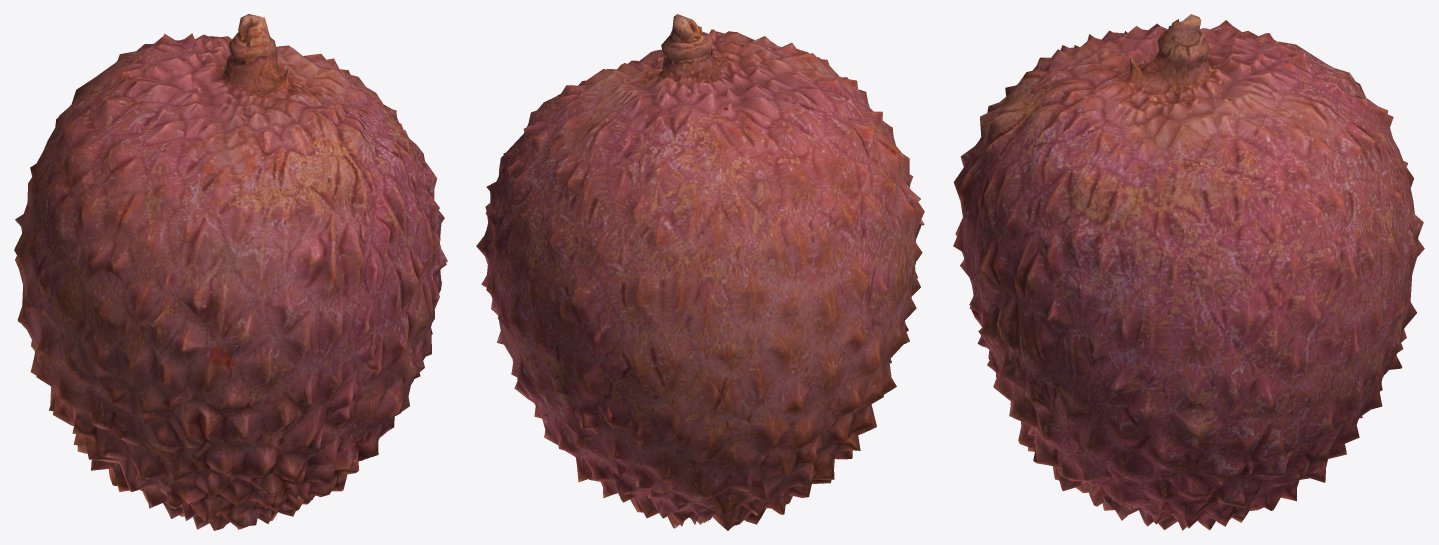
File: lychee.glb
The picture shows the model from 3 angles, left to right: view 1: azimuth 30°, elevation 25°; view 2: azimuth 150°, elevation 25°; view 3: azimuth 270°, elevation 25°; orthographic projection. The views are drawn at different scales.
Parts seen in each view (by area): view 1: food_lychee_01; view 2: food_lychee_01; view 3: food_lychee_01.
Boxes of the visible parts, x1,y1,x2,y2 form: food_lychee_01: (14,14,447,530); food_lychee_01: (476,14,924,530); food_lychee_01: (953,14,1424,530).
Size of the model in its own units: 1.82 by 2.25 by 1.87.
Materials: 1 (1 with a texture image).
